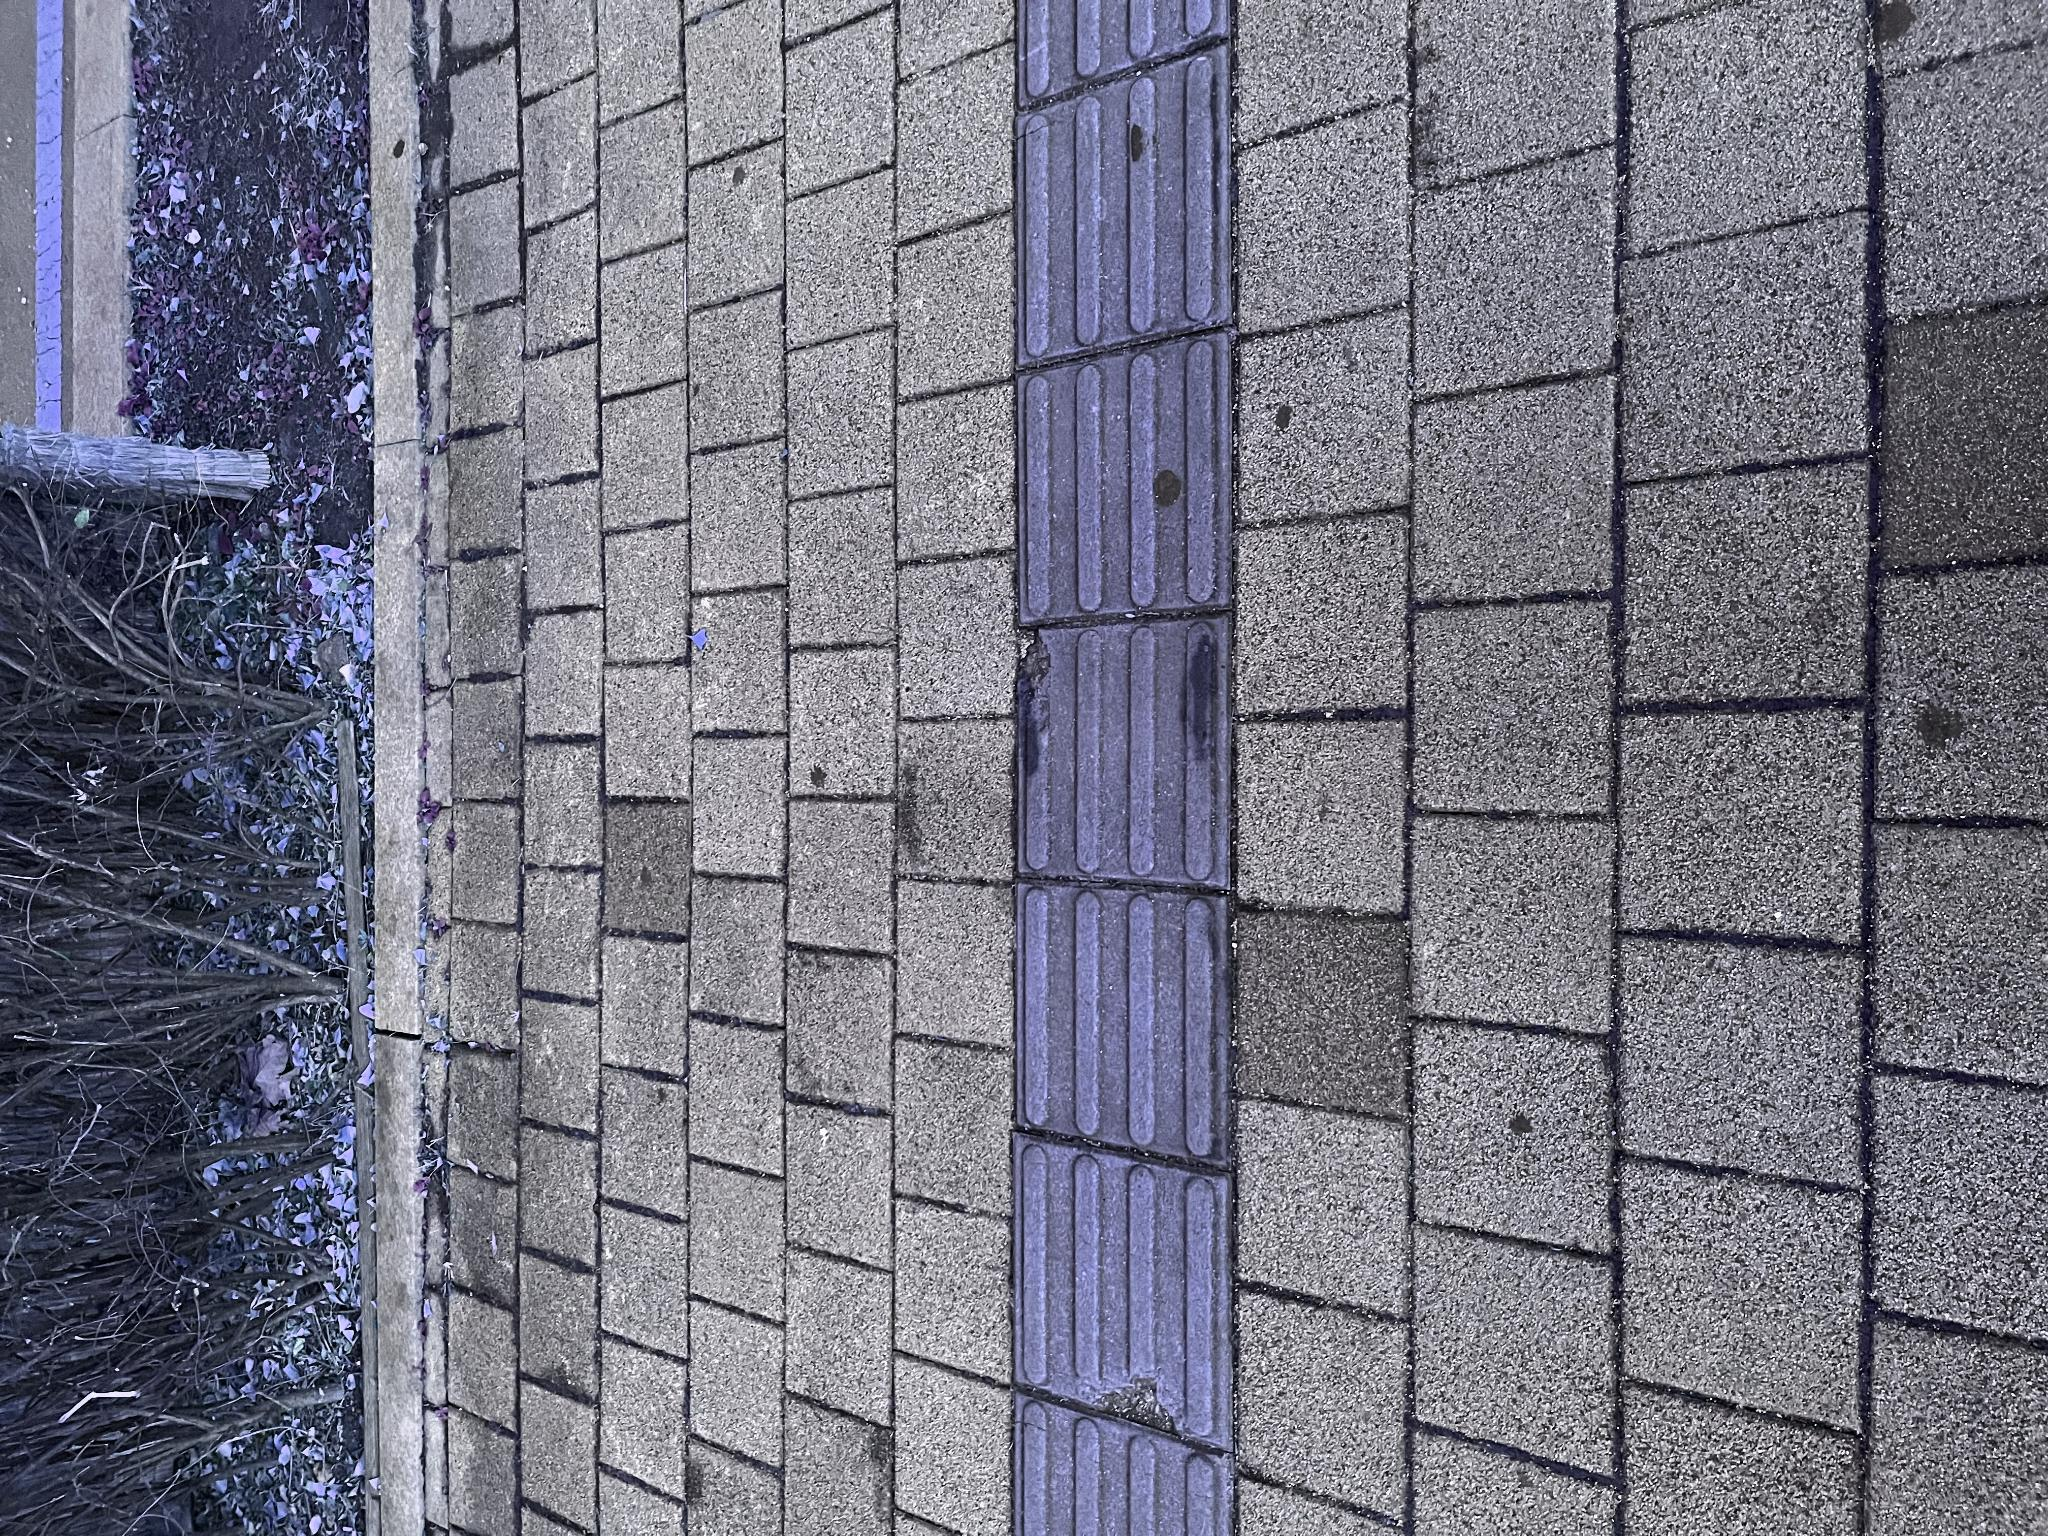Straight block broken: (85, 1015, 402, 1228), (648, 1020, 921, 1228)
Straight block normal: (1171, 1020, 1492, 1231), (918, 1018, 1205, 1228), (374, 1018, 651, 1225)
